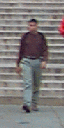person: (16, 16, 47, 122)
